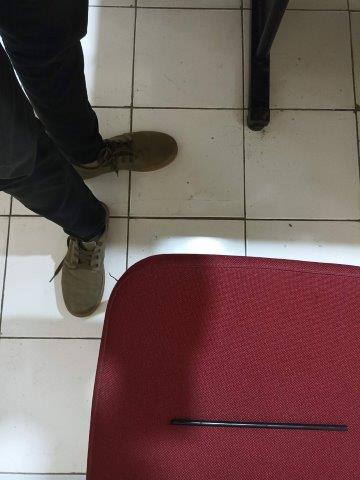sedotan: (171, 419, 348, 432)
